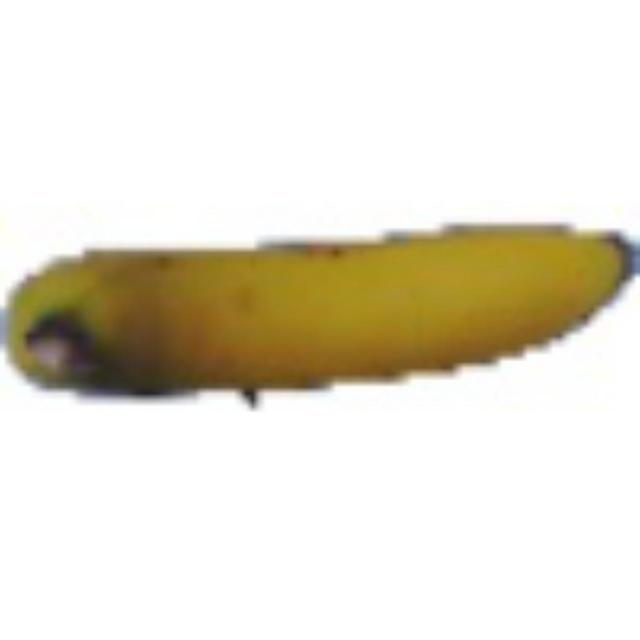banana: (0, 166, 634, 416)
